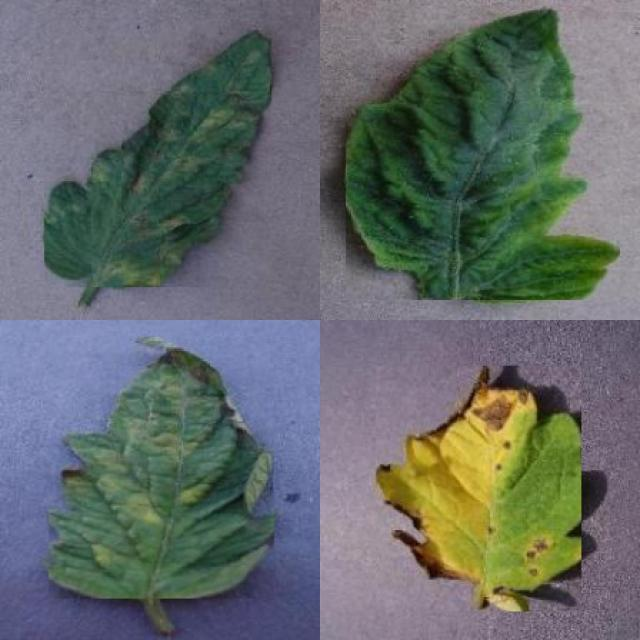Leaf Mold: (48, 336, 275, 600), (45, 30, 272, 287)
Septoria: (376, 366, 581, 611)
Yellow Leaf Curl Virus: (346, 6, 620, 300)
